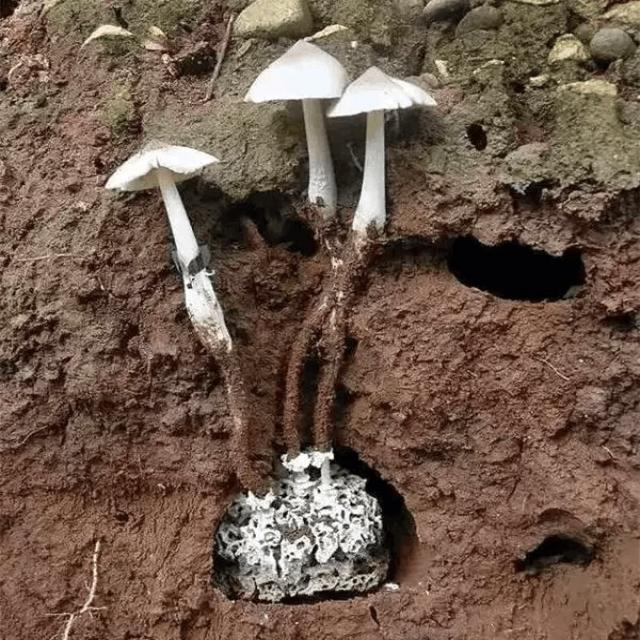Collybia albuminosa: (105, 134, 224, 346), (328, 63, 438, 226), (249, 40, 354, 210)
